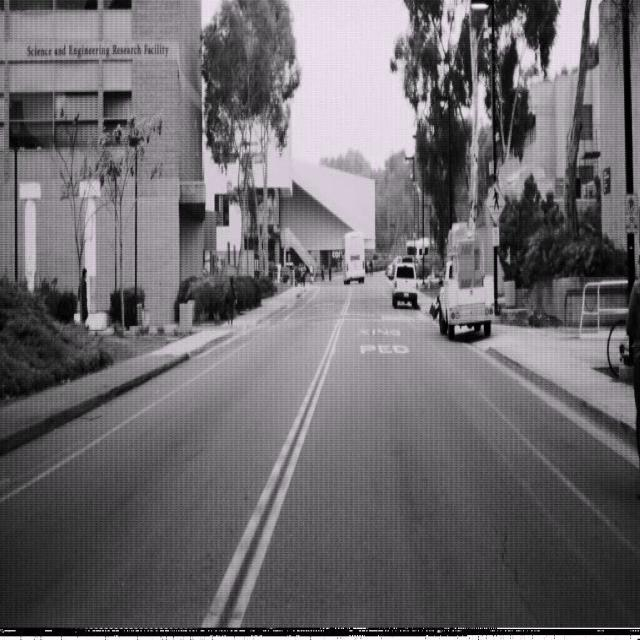pedestrianCrossing: (484, 179, 507, 224)
